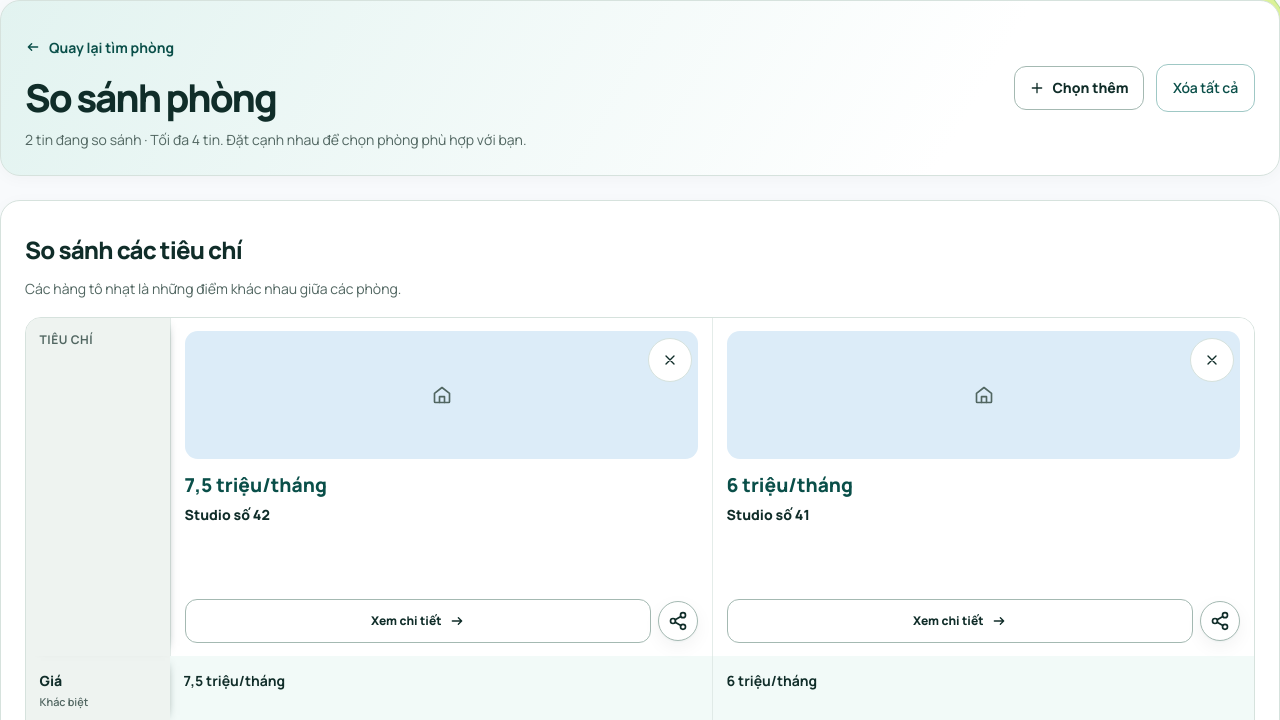
Test case: ComparePage › removes a listing from the session comparison
The image size is (1280, 720).
Expected: the heading "Studio số 42" is shown, left=185, top=505, right=270, bottom=524
Step 1. Click the 1st button named "Bỏ khỏi so sánh" → (670, 360), box left=648, top=338, right=692, bottom=382
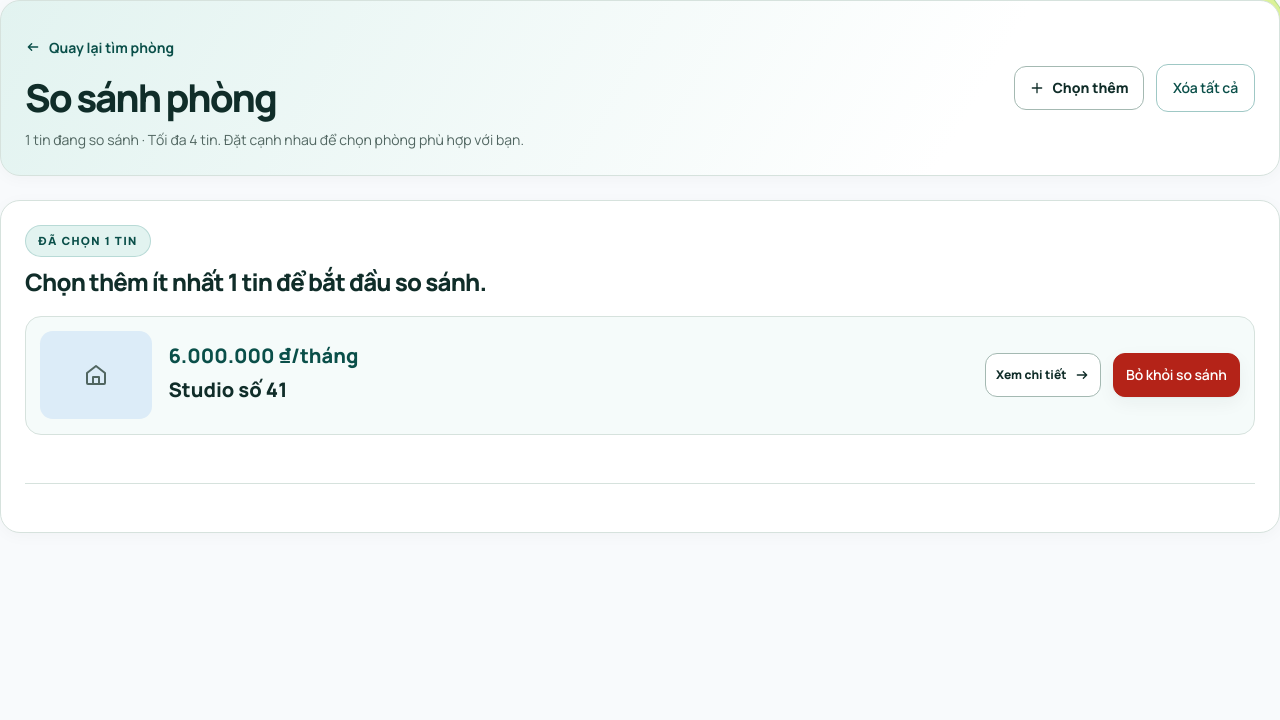
Result: the heading "Studio số 42" is gone
